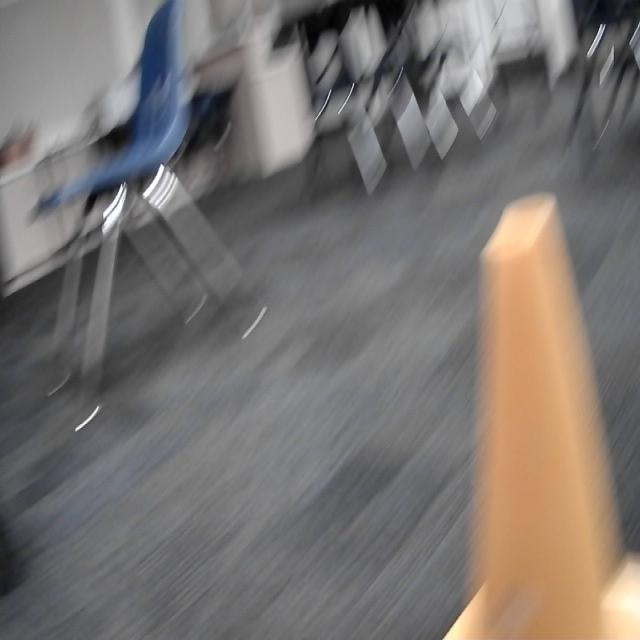cone: (442, 193, 640, 640)
